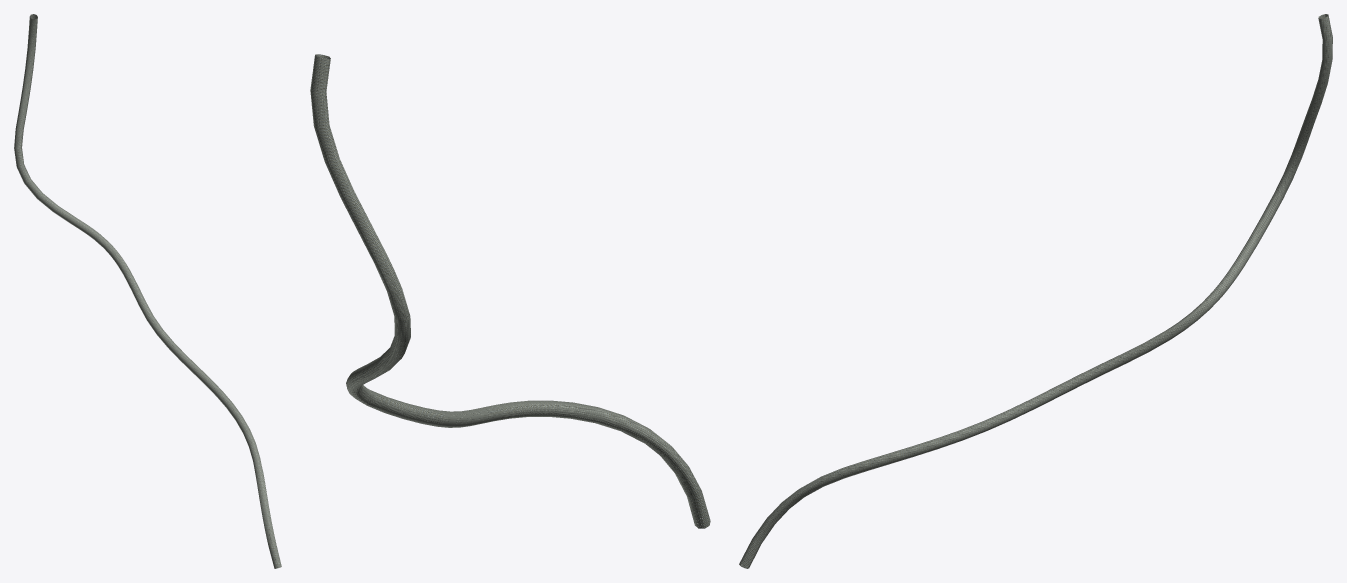
The model's file is microtubule9.fbx.
The picture shows the model from 3 angles, left to right: view 1: azimuth 30°, elevation 25°; view 2: azimuth 150°, elevation 25°; view 3: azimuth 270°, elevation 25°; orthographic projection. The views are drawn at different scales.
Visible parts, largest first — view 1: microtubule9; view 2: microtubule9; view 3: microtubule9.
Boxes of the visible parts, box(x1,y1,x2,y2) form: microtubule9: box(14, 14, 281, 568); microtubule9: box(310, 54, 710, 528); microtubule9: box(739, 14, 1332, 568).
Size of the model in its own units: 1778 by 8076 by 8119.
1 material, 1 textured.
